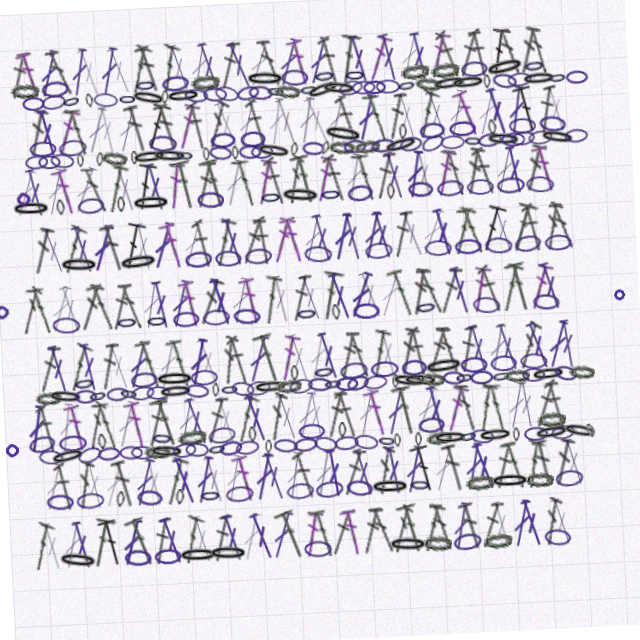chain: (496, 65, 538, 88), (331, 124, 373, 147), (316, 78, 353, 102), (46, 538, 87, 559), (421, 362, 462, 382), (391, 138, 428, 160), (286, 185, 327, 204), (121, 244, 162, 263), (556, 433, 593, 454), (141, 80, 178, 100), (43, 434, 80, 454), (264, 139, 300, 159), (548, 139, 584, 159), (257, 68, 297, 85), (62, 245, 102, 262), (197, 540, 237, 557), (377, 540, 417, 557), (443, 81, 479, 99), (388, 376, 424, 394), (17, 187, 57, 203), (137, 187, 177, 203), (152, 364, 192, 380), (362, 482, 402, 498), (482, 482, 522, 498), (167, 541, 207, 557), (428, 137, 455, 160), (171, 421, 202, 441), (332, 81, 368, 98), (494, 140, 530, 157), (44, 376, 80, 393), (528, 435, 564, 452), (22, 420, 51, 441), (337, 480, 366, 500), (160, 141, 196, 157), (412, 67, 442, 86), (442, 67, 472, 86), (70, 433, 97, 454), (462, 82, 497, 98), (140, 141, 175, 157), (400, 377, 435, 393), (528, 377, 563, 393), (143, 436, 178, 452), (517, 244, 546, 263), (202, 421, 231, 440), (307, 480, 336, 499), (442, 539, 471, 558), (202, 68, 232, 86), (457, 481, 487, 499), (472, 540, 502, 558), (548, 126, 576, 145), (533, 539, 561, 558), (177, 82, 212, 97), (533, 82, 568, 97), (155, 377, 190, 392), (250, 377, 285, 392), (472, 436, 507, 451), (67, 127, 96, 145), (157, 127, 186, 145), (532, 186, 561, 204), (307, 245, 336, 263), (52, 304, 81, 322), (337, 363, 366, 381), (217, 481, 246, 499), (547, 481, 576, 499), (550, 375, 576, 395), (128, 480, 155, 499), (173, 68, 201, 86), (83, 186, 111, 204), (488, 245, 516, 263), (233, 304, 261, 322), (473, 304, 501, 322), (533, 304, 561, 322), (278, 481, 306, 499), (225, 80, 251, 99), (349, 80, 375, 99), (342, 375, 368, 394), (532, 422, 561, 439), (412, 540, 441, 557), (427, 437, 462, 451), (428, 127, 455, 145), (353, 186, 380, 204), (503, 186, 531, 203), (368, 245, 396, 262), (68, 481, 96, 498), (293, 540, 321, 557), (503, 81, 529, 99), (285, 376, 311, 394), (347, 435, 373, 453), (22, 69, 51, 85), (517, 482, 546, 498), (53, 68, 80, 85), (293, 68, 320, 85), (426, 81, 453, 98), (109, 140, 136, 157), (203, 186, 230, 203), (443, 186, 470, 203), (188, 245, 215, 262), (248, 245, 275, 262), (203, 304, 230, 321), (128, 363, 155, 380), (518, 363, 545, 380), (272, 376, 299, 393), (413, 422, 440, 439), (420, 435, 447, 452), (38, 481, 65, 498), (113, 540, 140, 557), (247, 81, 272, 99), (227, 376, 252, 394), (307, 435, 332, 453), (368, 364, 396, 380), (53, 423, 81, 439), (414, 186, 440, 203), (473, 69, 500, 85), (285, 82, 312, 98), (38, 128, 65, 144), (458, 128, 485, 144), (518, 128, 545, 144), (362, 141, 389, 157), (473, 187, 500, 203), (218, 246, 245, 262), (428, 246, 455, 262), (458, 246, 485, 262), (548, 246, 575, 262), (173, 305, 200, 321), (353, 305, 380, 321), (188, 364, 215, 380), (458, 364, 485, 380), (488, 364, 515, 380), (293, 423, 320, 439), (143, 541, 170, 557), (52, 81, 77, 98), (58, 140, 83, 157), (407, 140, 432, 157), (486, 140, 511, 157), (519, 140, 544, 157), (127, 376, 152, 393), (166, 435, 191, 452), (212, 435, 237, 452), (219, 128, 245, 144), (249, 128, 275, 144), (399, 364, 425, 380), (70, 363, 93, 381), (310, 363, 333, 381), (217, 140, 241, 157), (104, 82, 129, 98), (195, 82, 220, 98), (259, 82, 284, 98), (379, 141, 404, 157), (181, 377, 206, 393), (243, 377, 268, 393), (360, 377, 385, 393), (32, 436, 57, 452), (124, 436, 149, 452), (229, 436, 254, 452), (267, 436, 292, 452), (287, 436, 312, 452), (328, 436, 353, 452), (464, 436, 489, 452), (545, 436, 570, 452), (325, 68, 348, 85), (535, 68, 558, 85), (415, 304, 438, 321), (145, 422, 168, 439), (337, 141, 363, 156), (416, 377, 442, 392), (566, 377, 592, 392), (304, 377, 329, 392), (401, 481, 423, 498), (32, 378, 58, 392), (501, 378, 527, 392), (138, 437, 164, 451), (214, 82, 238, 97), (519, 82, 543, 97), (310, 141, 334, 156), (537, 141, 561, 156), (573, 141, 597, 156), (439, 377, 463, 392), (91, 436, 115, 451), (113, 436, 137, 451), (179, 436, 203, 451), (72, 81, 93, 98), (115, 376, 136, 393), (452, 435, 473, 452), (146, 69, 168, 85), (356, 69, 378, 85), (266, 187, 288, 203), (326, 187, 348, 203), (116, 305, 138, 321), (146, 305, 168, 321), (296, 305, 318, 321), (191, 482, 213, 498), (33, 141, 56, 156), (247, 141, 270, 156), (352, 141, 375, 156), (103, 377, 126, 392), (363, 83, 387, 97), (387, 83, 411, 97), (449, 142, 473, 156), (510, 142, 534, 156), (84, 377, 105, 393), (143, 378, 167, 392), (518, 437, 542, 451), (33, 83, 56, 97), (374, 83, 397, 97), (577, 83, 600, 97), (46, 142, 69, 156), (259, 142, 282, 156), (71, 378, 94, 392), (332, 378, 355, 392), (467, 378, 490, 392), (519, 378, 542, 392), (408, 82, 428, 98), (183, 141, 203, 157), (488, 377, 508, 393), (201, 436, 221, 452), (371, 436, 391, 452), (277, 82, 297, 97), (310, 82, 330, 97), (559, 82, 579, 97), (320, 377, 340, 392), (472, 141, 491, 156), (452, 377, 471, 392), (129, 83, 148, 97), (217, 378, 236, 392), (107, 481, 117, 498), (328, 141, 339, 156), (580, 436, 590, 451), (497, 128, 506, 144), (62, 187, 71, 203), (332, 305, 341, 321), (92, 423, 101, 439), (167, 482, 176, 498), (96, 82, 105, 97), (298, 141, 307, 156), (408, 128, 416, 144), (123, 187, 131, 203), (393, 187, 401, 203), (288, 364, 296, 380), (243, 423, 251, 439), (333, 423, 341, 439), (172, 83, 180, 97), (104, 142, 112, 156), (495, 83, 502, 97), (85, 142, 92, 156), (139, 142, 146, 156), (211, 142, 218, 156), (240, 142, 247, 156), (209, 378, 216, 392), (389, 378, 396, 392), (259, 437, 266, 451), (388, 437, 395, 451), (409, 437, 416, 451), (507, 437, 514, 451)
double: (114, 507, 149, 559), (264, 507, 299, 559), (510, 212, 544, 264), (150, 94, 183, 145), (480, 212, 513, 263), (145, 389, 178, 440), (420, 213, 453, 263), (61, 212, 93, 263), (86, 271, 118, 322), (61, 330, 93, 381), (251, 330, 283, 381), (151, 448, 183, 499), (386, 507, 418, 558), (236, 36, 268, 86), (311, 95, 343, 145), (76, 154, 108, 204), (346, 272, 378, 322), (406, 390, 438, 440), (206, 153, 237, 204), (451, 212, 482, 263), (461, 212, 492, 263), (496, 271, 527, 322), (506, 271, 537, 322), (226, 389, 257, 440), (76, 507, 107, 558), (406, 507, 437, 558), (116, 36, 147, 86), (256, 36, 287, 86), (376, 36, 407, 86), (221, 95, 252, 145), (401, 213, 432, 263), (196, 272, 227, 322), (376, 272, 407, 322), (236, 508, 267, 558), (137, 35, 167, 86), (422, 94, 452, 145), (522, 94, 552, 145), (107, 153, 137, 204), (177, 153, 207, 204), (297, 153, 327, 204), (122, 212, 152, 263), (212, 212, 242, 263), (27, 271, 57, 322), (317, 271, 347, 322), (387, 271, 417, 322), (402, 448, 432, 499), (462, 95, 492, 145), (17, 154, 47, 204), (42, 213, 72, 263), (92, 213, 122, 263), (152, 213, 182, 263), (47, 272, 77, 322), (77, 272, 107, 322), (357, 272, 387, 322), (522, 331, 552, 381), (177, 390, 207, 440), (92, 449, 122, 499), (162, 449, 192, 499), (462, 449, 492, 499), (257, 508, 287, 558), (132, 330, 161, 381), (87, 389, 116, 440), (387, 389, 416, 440), (17, 507, 46, 558), (87, 507, 116, 558), (512, 331, 542, 380), (87, 36, 116, 86), (147, 36, 176, 86), (177, 36, 206, 86), (207, 36, 236, 86), (287, 36, 316, 86), (317, 36, 346, 86), (347, 36, 376, 86), (62, 95, 91, 145), (92, 95, 121, 145), (282, 95, 311, 145), (372, 95, 401, 145), (432, 95, 461, 145), (72, 213, 101, 263), (182, 213, 211, 263), (272, 213, 301, 263), (57, 272, 86, 322), (297, 272, 326, 322), (327, 272, 356, 322), (527, 272, 556, 322), (102, 331, 131, 381), (122, 331, 151, 381), (192, 331, 221, 381), (242, 331, 271, 381), (492, 331, 521, 381), (542, 331, 571, 381), (237, 390, 266, 440), (437, 390, 466, 440), (252, 449, 281, 499), (422, 449, 451, 499), (492, 449, 521, 499), (147, 508, 176, 558), (167, 508, 196, 558), (447, 36, 476, 85), (212, 95, 241, 144), (28, 36, 56, 86), (408, 36, 436, 86), (498, 36, 526, 86), (73, 95, 101, 145), (123, 95, 151, 145), (163, 95, 191, 145), (183, 95, 211, 145), (243, 95, 271, 145), (333, 95, 361, 145), (483, 95, 511, 145), (493, 95, 521, 145), (118, 154, 146, 204), (138, 154, 166, 204), (238, 154, 266, 204), (358, 154, 386, 204), (528, 154, 556, 204), (103, 213, 131, 263), (223, 213, 251, 263), (283, 213, 311, 263), (493, 213, 521, 263), (208, 272, 236, 322), (538, 272, 566, 322), (163, 331, 191, 381), (283, 331, 311, 381), (313, 331, 341, 381), (363, 331, 391, 381), (108, 390, 136, 440), (268, 390, 296, 440), (288, 390, 316, 440), (123, 449, 151, 499), (108, 508, 136, 558), (208, 508, 236, 558), (298, 508, 326, 558), (508, 508, 536, 558), (58, 36, 86, 85), (243, 213, 271, 262), (478, 272, 506, 321), (318, 508, 346, 557), (48, 36, 75, 86), (168, 36, 195, 86), (358, 36, 385, 86), (438, 36, 465, 86), (528, 36, 555, 86), (133, 95, 160, 145), (363, 95, 390, 145), (403, 95, 430, 145), (553, 95, 580, 145), (58, 154, 85, 204), (228, 154, 255, 204), (318, 154, 345, 204), (388, 154, 415, 204), (498, 154, 525, 204), (33, 213, 60, 263), (163, 213, 190, 263), (303, 213, 330, 263), (313, 213, 340, 263), (333, 213, 360, 263), (363, 213, 390, 263), (373, 213, 400, 263), (168, 272, 195, 322), (228, 272, 255, 322), (258, 272, 285, 322), (448, 272, 475, 322), (43, 331, 70, 381), (153, 331, 180, 381), (208, 390, 235, 440), (378, 390, 405, 440), (468, 390, 495, 440), (33, 449, 60, 499), (103, 449, 130, 499), (193, 449, 220, 499), (243, 449, 270, 499), (343, 449, 370, 499), (513, 449, 540, 499), (543, 449, 570, 499), (553, 449, 580, 499), (28, 508, 55, 558), (58, 508, 85, 558), (178, 508, 205, 558), (228, 508, 255, 558), (448, 508, 475, 558), (538, 508, 565, 558), (88, 154, 115, 203), (478, 154, 505, 203), (418, 272, 445, 321), (438, 272, 465, 321), (423, 331, 450, 380), (528, 390, 555, 439), (333, 449, 360, 498), (468, 508, 495, 557), (299, 36, 325, 86), (34, 95, 60, 145), (44, 95, 70, 145), (454, 95, 480, 145), (29, 154, 55, 204), (49, 154, 75, 204), (149, 154, 175, 204), (259, 154, 285, 204), (439, 154, 465, 204), (539, 154, 565, 204), (434, 213, 460, 263), (184, 331, 210, 381), (274, 331, 300, 381), (394, 331, 420, 381), (464, 331, 490, 381), (349, 390, 375, 440), (359, 390, 385, 440), (479, 390, 505, 440), (499, 390, 525, 440), (184, 449, 210, 499), (224, 449, 250, 499), (394, 449, 420, 499), (434, 449, 460, 499), (49, 508, 75, 558), (479, 508, 505, 558), (499, 508, 525, 558), (469, 36, 495, 85), (344, 95, 370, 144), (269, 154, 295, 203), (329, 154, 355, 203), (19, 272, 45, 321), (119, 272, 145, 321), (34, 331, 60, 380), (199, 390, 225, 439), (329, 390, 355, 439), (284, 449, 310, 498), (359, 508, 385, 557), (379, 508, 405, 557), (109, 36, 134, 86), (199, 36, 224, 86), (389, 36, 414, 86), (349, 154, 374, 204), (419, 154, 444, 204), (469, 154, 494, 204), (344, 213, 369, 263), (179, 272, 204, 322), (409, 272, 434, 322), (469, 272, 494, 322), (304, 331, 329, 381), (374, 331, 399, 381), (484, 331, 509, 381), (59, 390, 84, 440), (119, 390, 144, 440), (169, 390, 194, 440), (419, 390, 444, 440), (74, 449, 99, 499), (134, 449, 159, 499), (214, 449, 239, 499), (304, 449, 329, 499), (454, 449, 479, 499), (439, 508, 464, 558), (254, 95, 279, 144), (544, 213, 569, 262), (554, 213, 579, 262), (224, 331, 249, 380), (319, 390, 344, 439), (539, 390, 564, 439), (349, 508, 374, 557), (529, 508, 554, 557), (80, 36, 104, 86), (420, 36, 444, 86), (105, 95, 129, 145), (305, 95, 329, 145), (410, 154, 434, 204), (510, 154, 534, 204), (135, 213, 159, 263), (140, 272, 164, 322), (150, 272, 174, 322), (240, 272, 264, 322), (270, 272, 294, 322), (75, 331, 99, 381), (20, 390, 44, 440), (275, 449, 299, 499), (525, 449, 549, 499), (290, 508, 314, 558), (330, 508, 354, 558), (230, 36, 254, 85), (270, 36, 294, 85), (330, 36, 354, 85), (510, 36, 534, 85), (200, 154, 224, 203), (380, 154, 404, 203), (525, 213, 549, 262), (110, 272, 134, 321), (290, 272, 314, 321), (335, 331, 359, 380), (345, 331, 369, 380), (30, 390, 54, 439), (140, 390, 164, 439), (260, 390, 284, 439), (365, 449, 389, 498), (485, 449, 509, 498), (20, 36, 43, 85), (195, 95, 218, 144), (275, 95, 298, 144), (395, 95, 418, 144), (515, 95, 538, 144), (195, 213, 218, 262), (395, 213, 418, 262), (405, 331, 428, 380), (435, 331, 458, 380), (80, 390, 103, 439), (300, 390, 323, 439), (45, 449, 68, 498), (65, 449, 88, 498), (375, 449, 398, 498), (200, 508, 223, 557), (420, 508, 443, 557), (481, 36, 503, 85), (171, 154, 193, 203), (291, 154, 313, 203), (451, 154, 473, 203), (96, 331, 118, 380), (216, 331, 238, 380), (51, 390, 73, 439), (511, 390, 533, 439), (316, 449, 338, 498), (541, 36, 562, 85), (456, 331, 477, 380), (556, 331, 577, 380), (451, 390, 472, 439), (141, 508, 162, 557), (547, 95, 567, 144), (257, 213, 277, 262)
noise: (21, 176, 39, 194), (0, 427, 14, 443), (0, 288, 12, 306), (613, 302, 627, 316)
